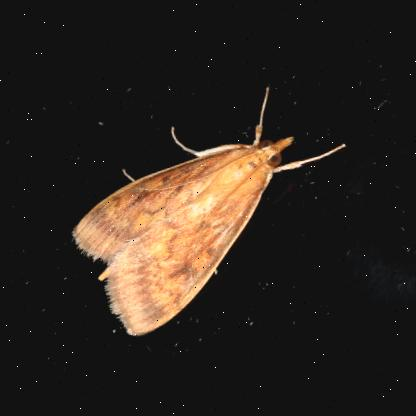Asian Corn Borer Moth: (47, 70, 377, 346)
